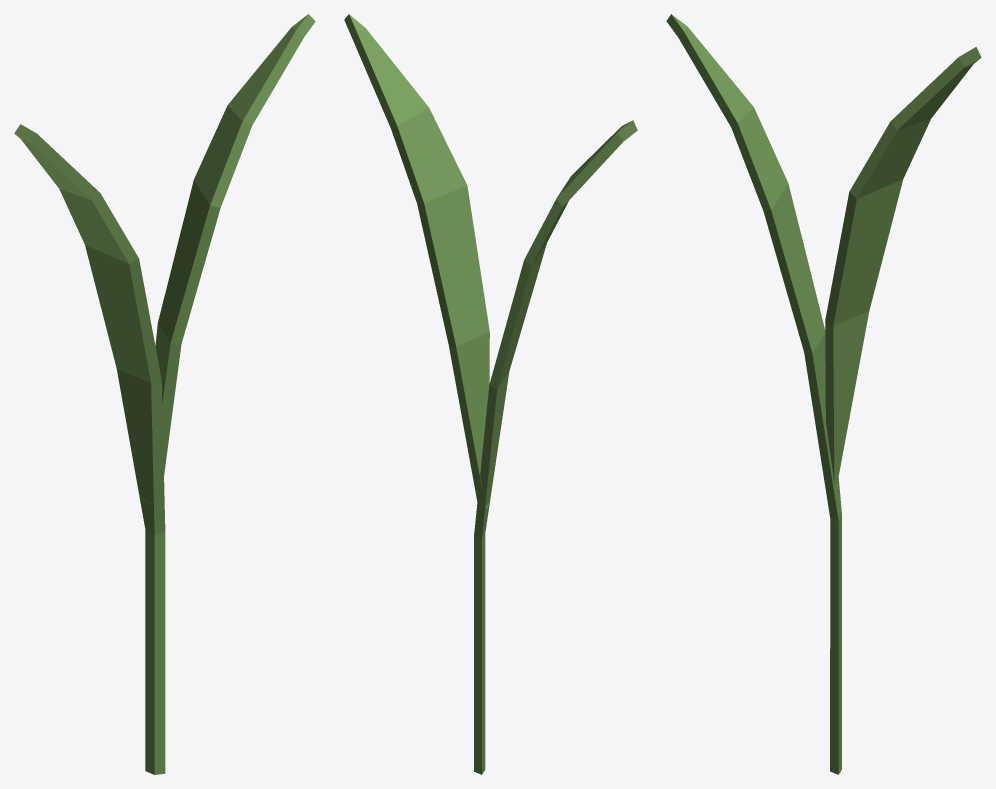
The model's file is Rice_1.gltf.
The picture shows the model from 3 angles, left to right: view 1: azimuth 30°, elevation 25°; view 2: azimuth 150°, elevation 25°; view 3: azimuth 330°, elevation 25°; orthographic projection. The views are drawn at different scales.
Parts seen in each view (by area): view 1: Rice_1; view 2: Rice_1; view 3: Rice_1.
Part boxes in pixels (x1=…): Rice_1: x1=14, y1=14, x2=315, y2=774; Rice_1: x1=344, y1=14, x2=637, y2=774; Rice_1: x1=666, y1=14, x2=981, y2=774.
Bounding box in the file's own units: 0.1584 × 0.3679 × 0.0306.
